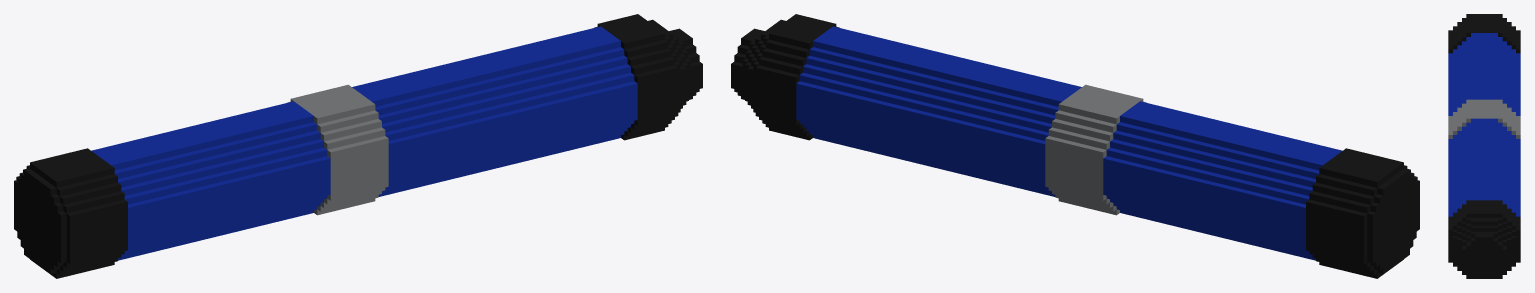
The model's file is water_filter_straw.glb.
3 renders of one model, left to right at view 1: azimuth 30°, elevation 25°; view 2: azimuth 150°, elevation 25°; view 3: azimuth 270°, elevation 25°, orthographic. The views are drawn at different scales.
Parts seen in each view (by area): view 1: water_filter_straw:compound; view 2: water_filter_straw:compound; view 3: water_filter_straw:compound.
Boxes of the visible parts, <box> form: water_filter_straw:compound: <box>14,14,702,278</box>; water_filter_straw:compound: <box>731,14,1419,278</box>; water_filter_straw:compound: <box>1448,14,1520,278</box>.
Bounding box in the file's own units: 0.224 × 0.032 × 0.032.
